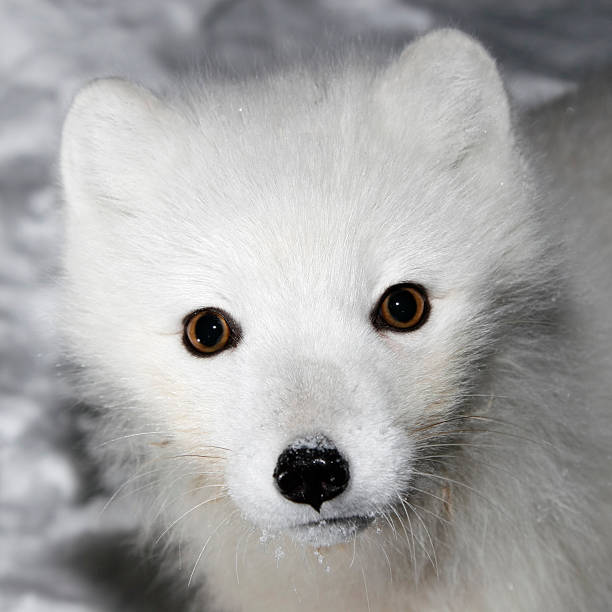arcticfox: (72, 184, 441, 532)
